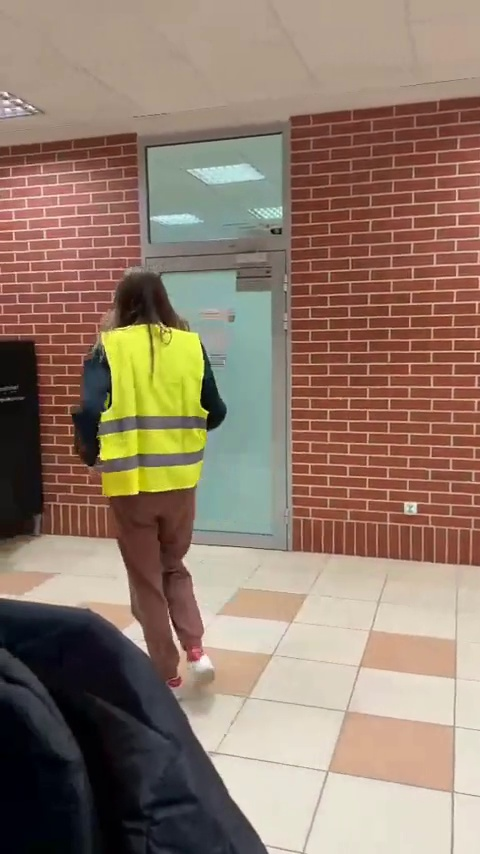vest: (66, 267, 229, 690)
